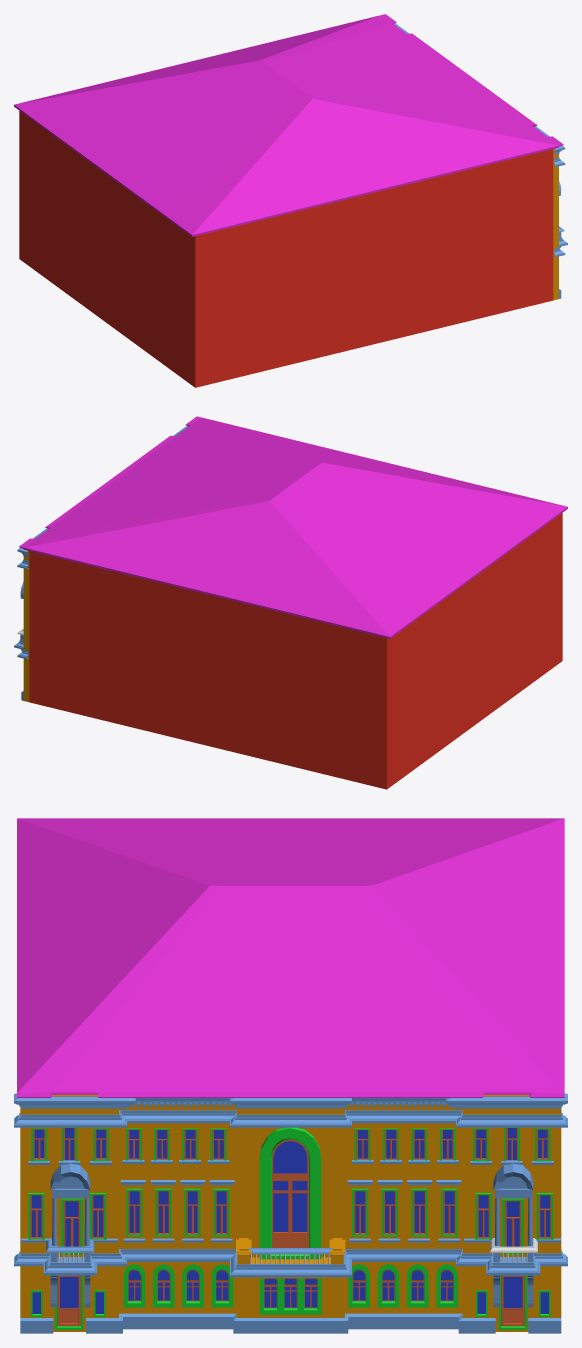
File: Building_04_01.fbx
3 renders of one model, top to bottom at view 1: azimuth 30°, elevation 25°; view 2: azimuth 150°, elevation 25°; view 3: azimuth 270°, elevation 25°, orthographic. The views are drawn at different scales.
Parts seen in each view (by area): view 1: Corpus_04, roof.001; view 2: Corpus_04, roof.001; view 3: roof.001, Corpus_04, border.004, border, Window 3.006, Building.018, Window 3.003, Window 3.004, Window 4 arr.025, Window 4 arr.026, SimpleVBalcony.004, SimpleVBalcony.005 (+12 smaller).
Boxes of the visible parts, x1,y1,x2,y2 form: Corpus_04: (19,111,561,387); roof.001: (14,14,563,236); Corpus_04: (21,513,562,789); roof.001: (19,416,567,638); roof.001: (17,818,564,1097); Corpus_04: (20,1095,561,1333); border.004: (14,1249,567,1277); border: (14,1110,567,1127); Window 3.006: (259,1127,321,1259); Building.018: (14,1093,567,1108); Window 3.003: (123,1264,233,1307); Window 3.004: (348,1264,457,1307); Window 4 arr.025: (126,1188,229,1236); Window 4 arr.026: (352,1188,457,1236); SimpleVBalcony.004: (50,1163,90,1307); SimpleVBalcony.005: (493,1163,533,1307).
Bounding box in the file's own units: 13574 × 6713 × 10955.
